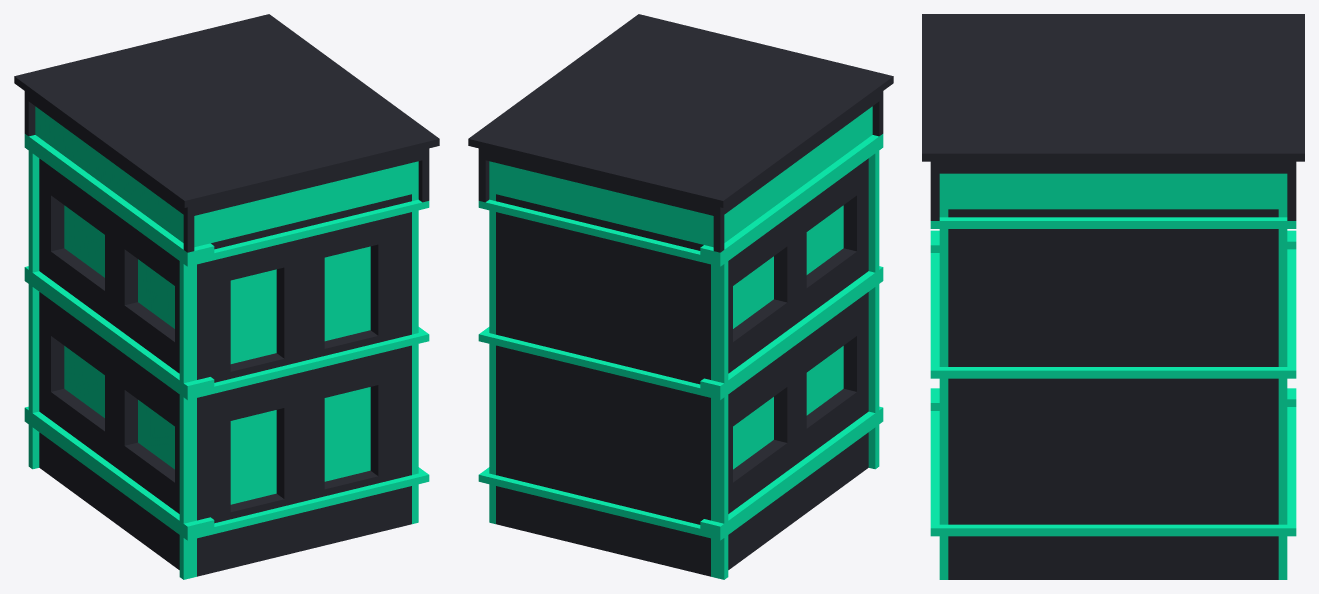
The model's file is building_001(2).obj.
3 renders of one model, left to right at view 1: azimuth 30°, elevation 25°; view 2: azimuth 150°, elevation 25°; view 3: azimuth 270°, elevation 25°, orthographic. The views are drawn at different scales.
Bounding box in the file's own units: 3.8 × 5.5 × 4.4.
1 material, 1 textured.
